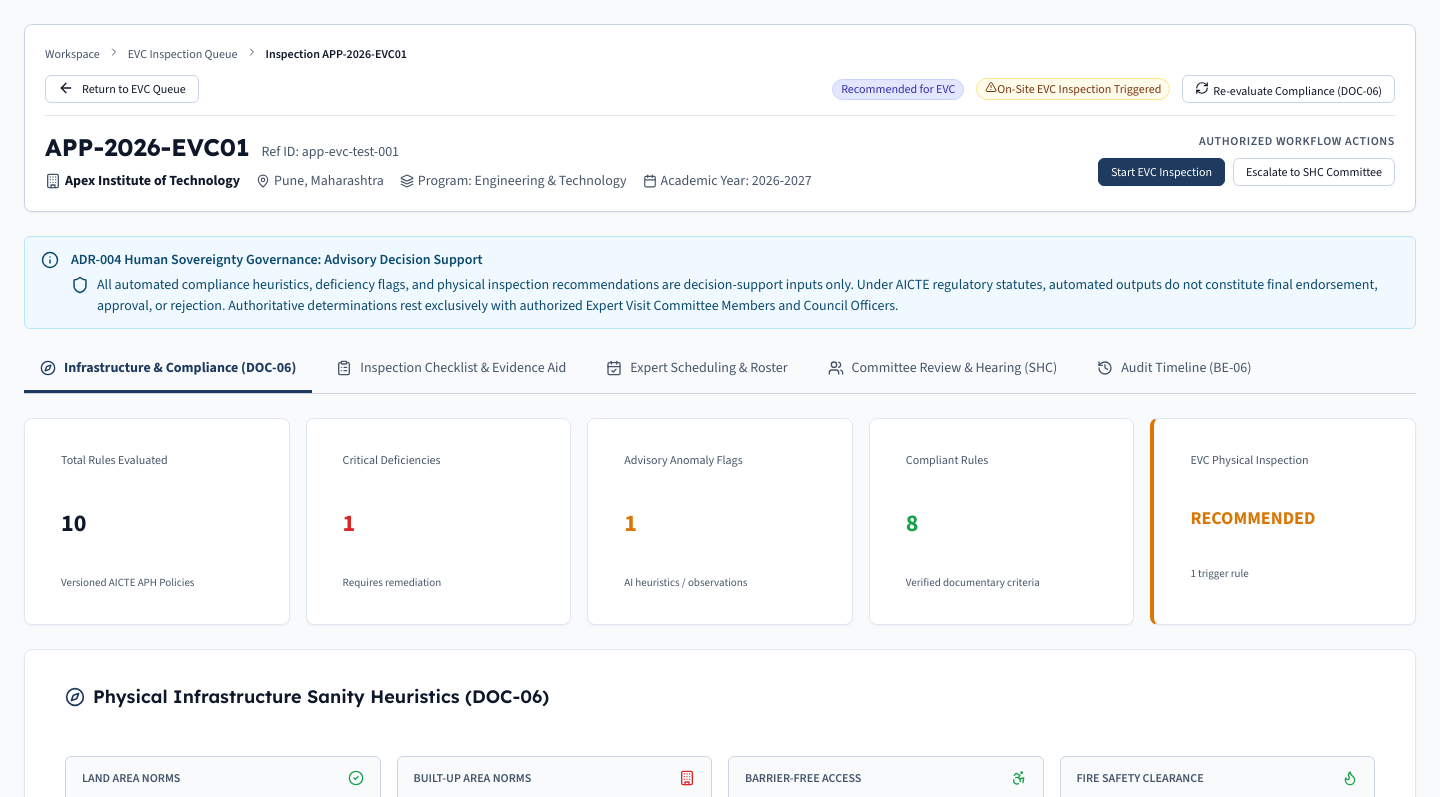
Test: EVC Case Detail & Inspection Workspace (FE-06) › switches to Expert Scheduling & Roster tab and displays contract boundary explanation
Check: the heading "APP-2026-EVC01" is shown, box [45,132,250,162]
Click the tab "Expert Scheduling & Roster" at coordinates (697, 369), box [590,345,804,393]
(page scrolled)
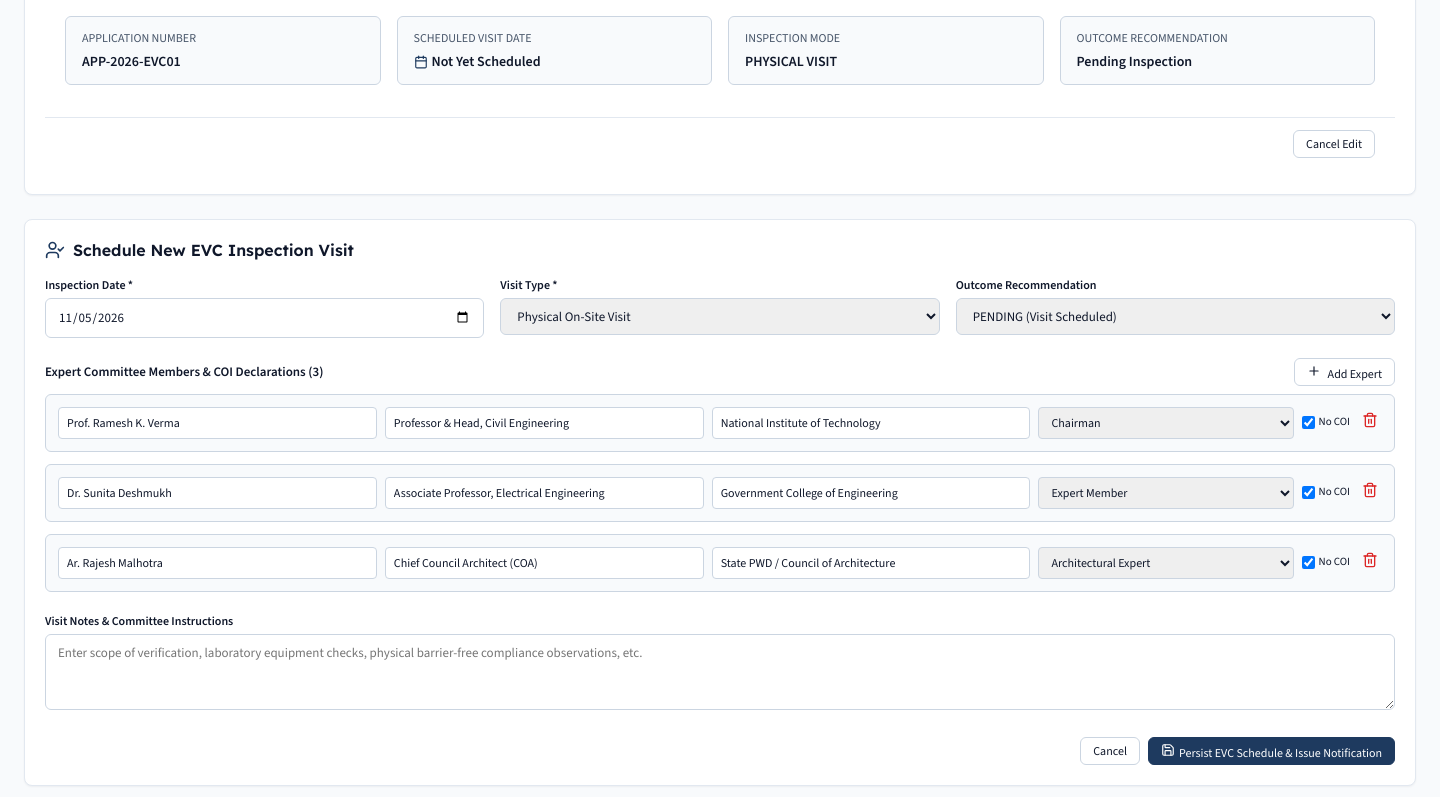
Check: the text "Expert Committee Members & COI Declarations (3)" is shown, box [45,362,323,381]
Check: the button "Persist EVC Schedule & Issue Notification" is shown, box [1148,737,1395,765]
